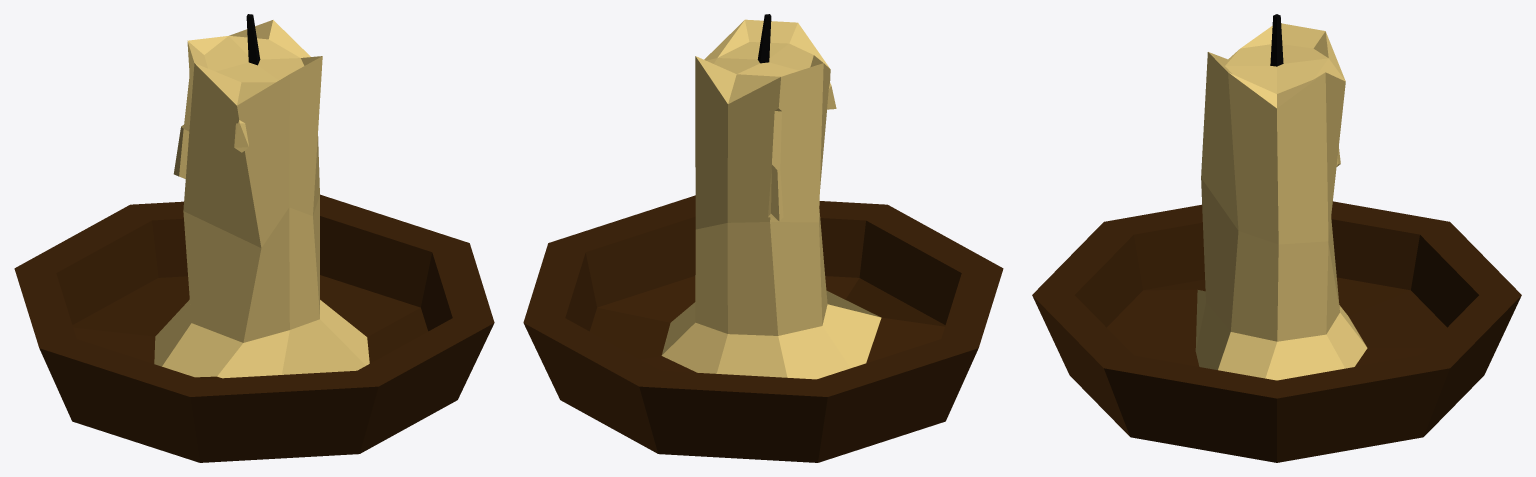
The model's file is Candle.fbx.
The picture shows the model from 3 angles, left to right: view 1: azimuth 30°, elevation 25°; view 2: azimuth 150°, elevation 25°; view 3: azimuth 270°, elevation 25°; orthographic projection.
Parts seen in each view (by area): view 1: Candle; view 2: Candle; view 3: Candle.
Boxes of the visible parts, x1,y1,x2,y2 form: Candle: [14, 14, 494, 462]; Candle: [523, 14, 1003, 462]; Candle: [1032, 14, 1521, 462].
Bounding box in the file's own units: 0.1203 × 0.0969 × 0.1203.
